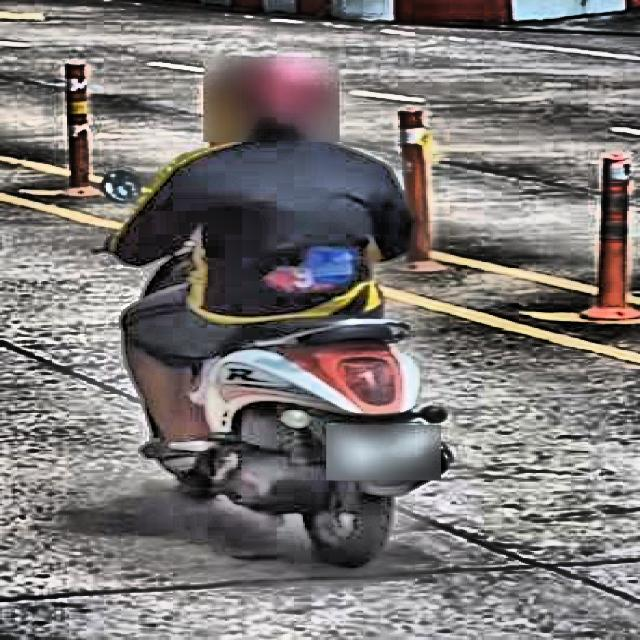motorcycle: (67, 152, 470, 574)
